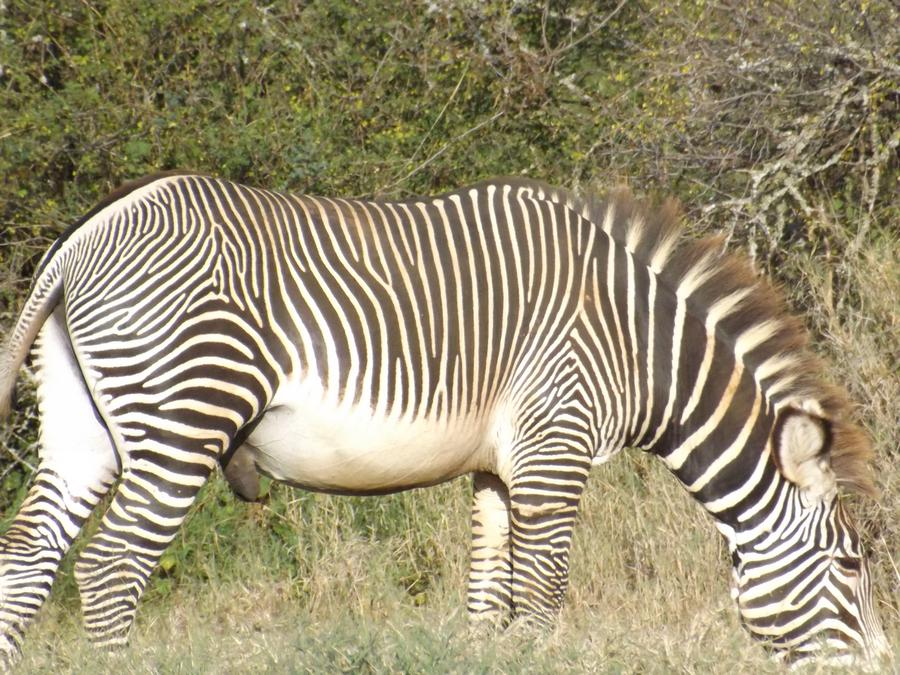zebra_grevys: (40, 161, 604, 474)
